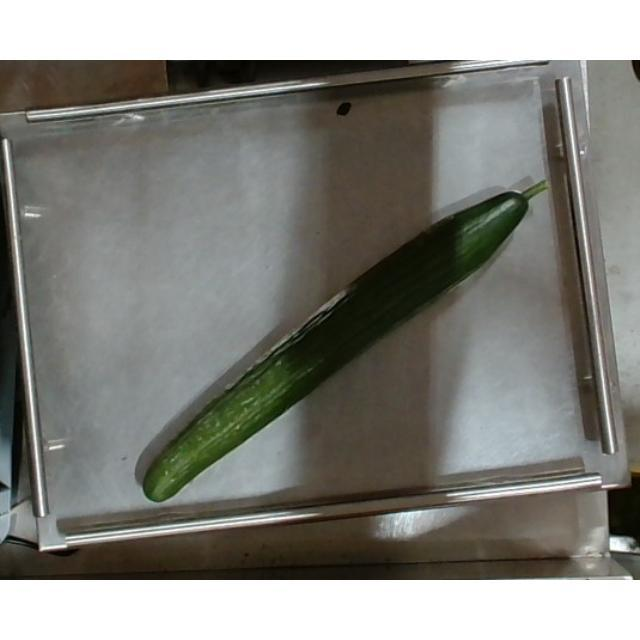cucumber: (143, 171, 552, 503)
